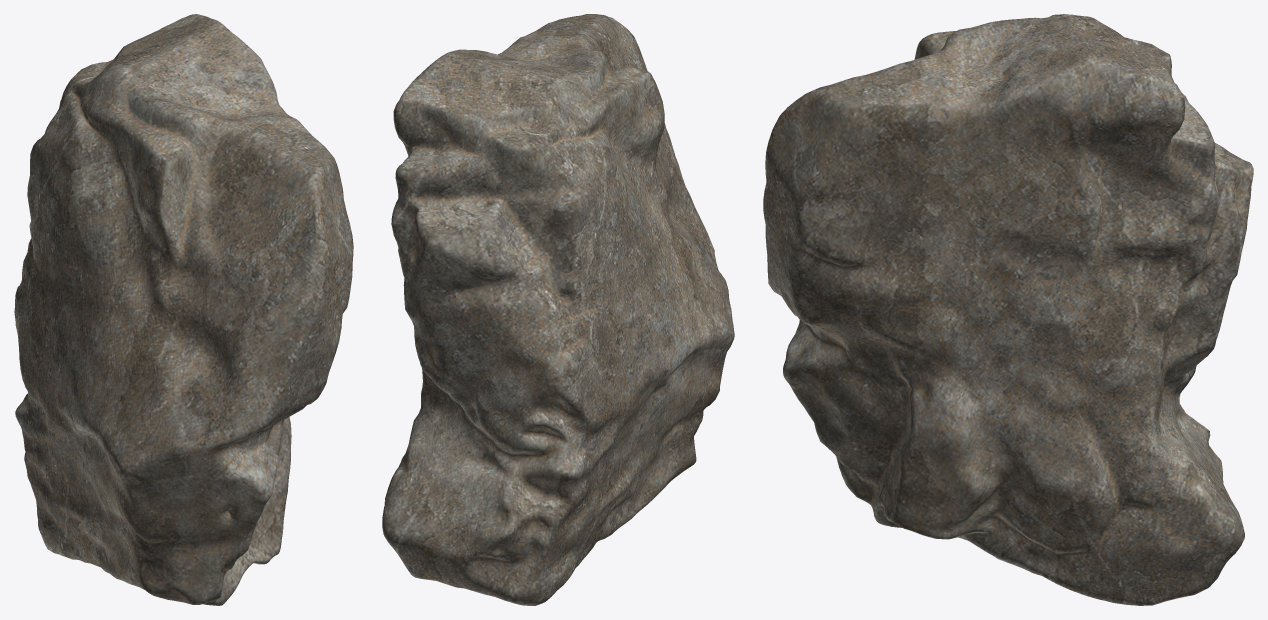
File: Rock_9.OBJ
3 renders of one model, left to right at view 1: azimuth 30°, elevation 25°; view 2: azimuth 150°, elevation 25°; view 3: azimuth 270°, elevation 25°, orthographic. The views are drawn at different scales.
Bounding box in the file's own units: 6.7 × 14.96 × 11.92.
Materials: 1 (1 with a texture image).
